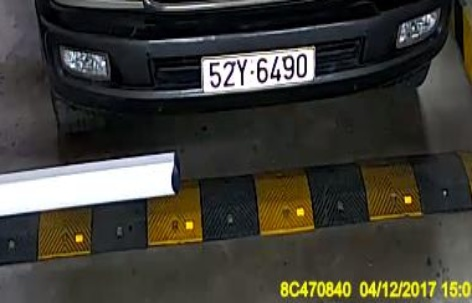plate: (199, 45, 316, 93)
